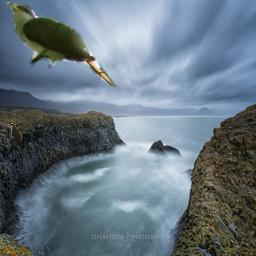Cuckoo: (5, 2, 117, 87), (7, 123, 23, 157)
